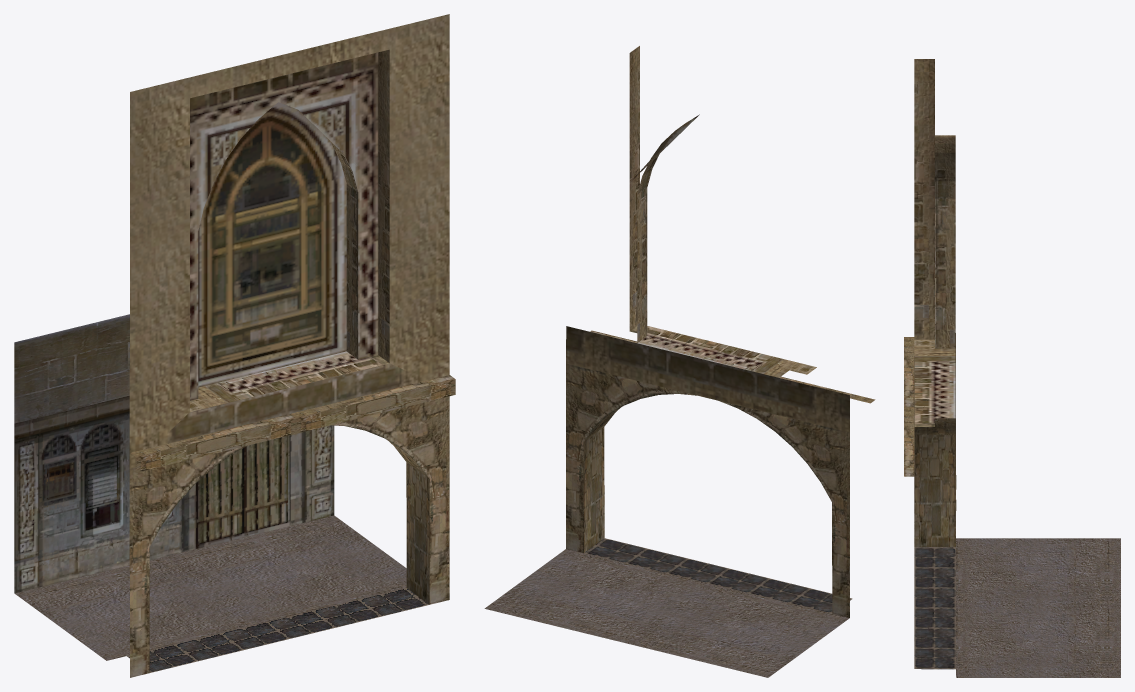
Rendered from M7Z1_CityWall3A3.glb.
The picture shows the model from 3 angles, left to right: view 1: azimuth 30°, elevation 25°; view 2: azimuth 150°, elevation 25°; view 3: azimuth 270°, elevation 25°; orthographic projection. The views are drawn at different scales.
Visible parts, largest first — view 1: M7Z1_CITYWALL3A3; view 2: M7Z1_CITYWALL3A3; view 3: M7Z1_CITYWALL3A3.
Part boxes in pixels (box(x1,y1,x2,y2)): M7Z1_CITYWALL3A3: box(14, 14, 455, 677); M7Z1_CITYWALL3A3: box(484, 46, 875, 677); M7Z1_CITYWALL3A3: box(904, 59, 1120, 677).
Bounding box in the file's own units: 8 × 14 × 5.25.
Materials: 7 (7 with a texture image).
